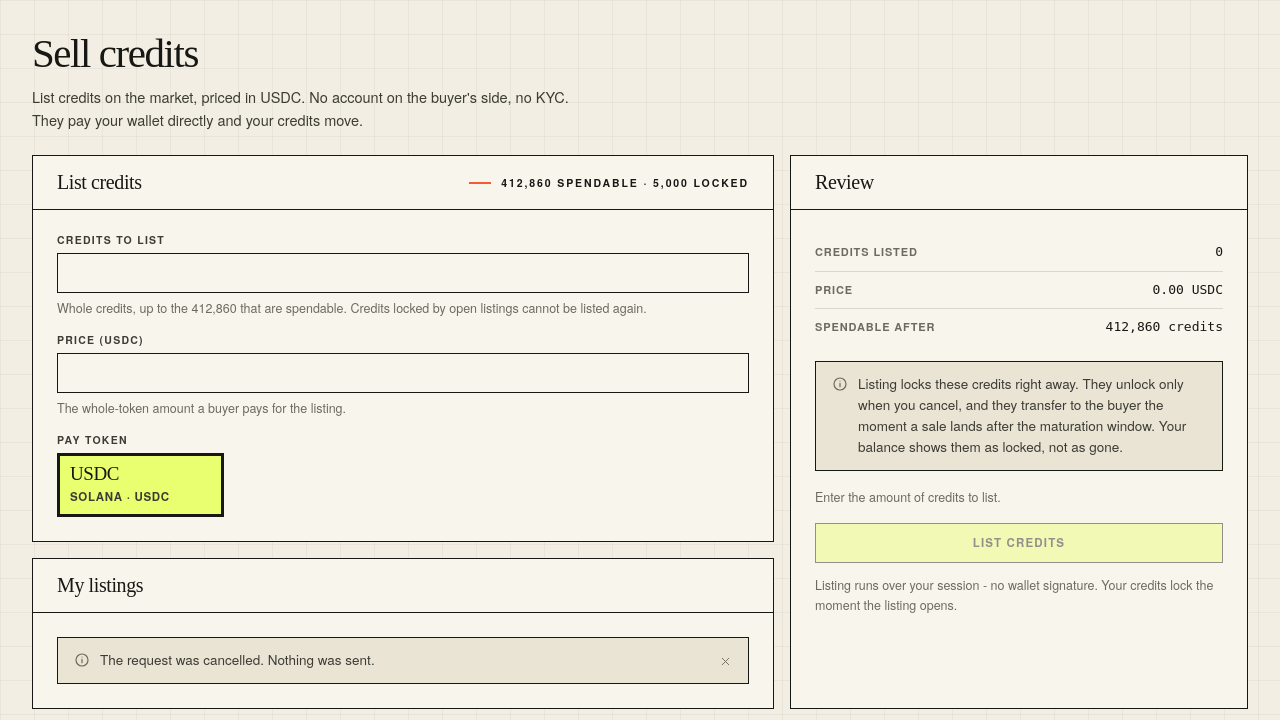
SellComponent › a listings rejection renders an inline notice, not a page error
Check: the element with class "notice-x" is shown, box [57,637,749,684]
The X clears the signal and the notice leaves.
Step 1. Click the button with class "state-close" → (726,660), box [712,646,740,674]
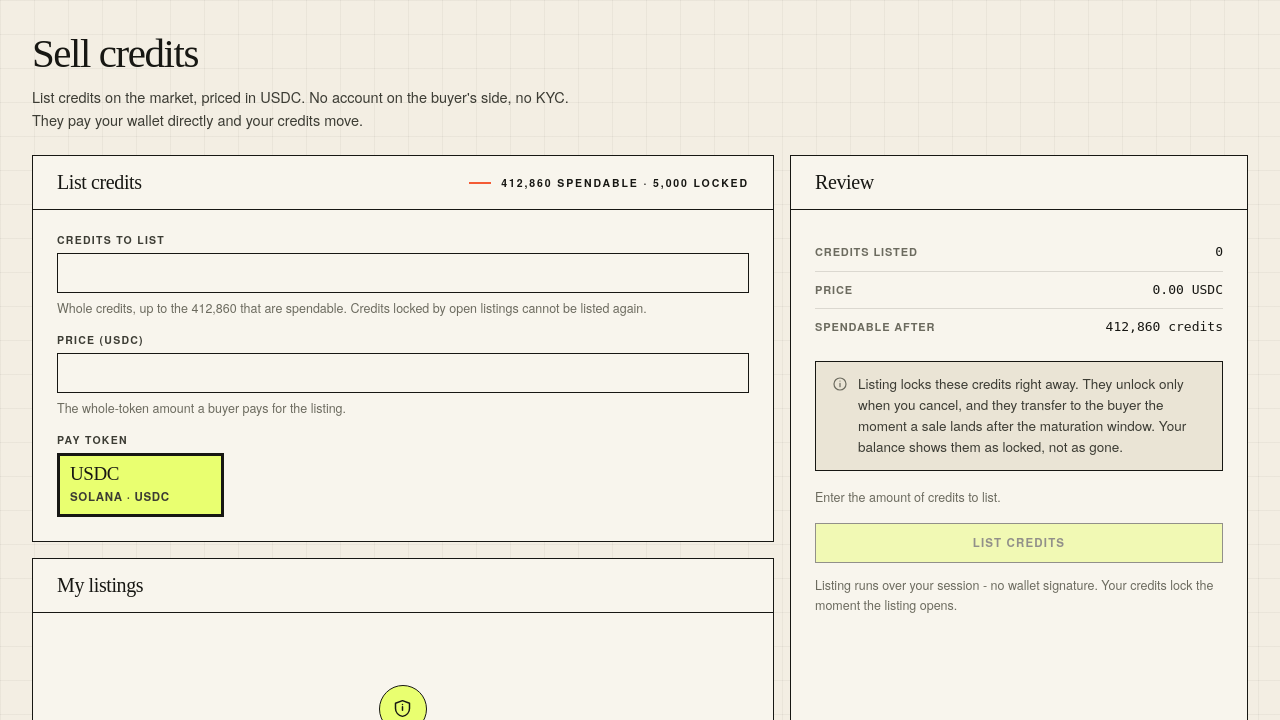
Check: the element with class "notice-x" is gone
